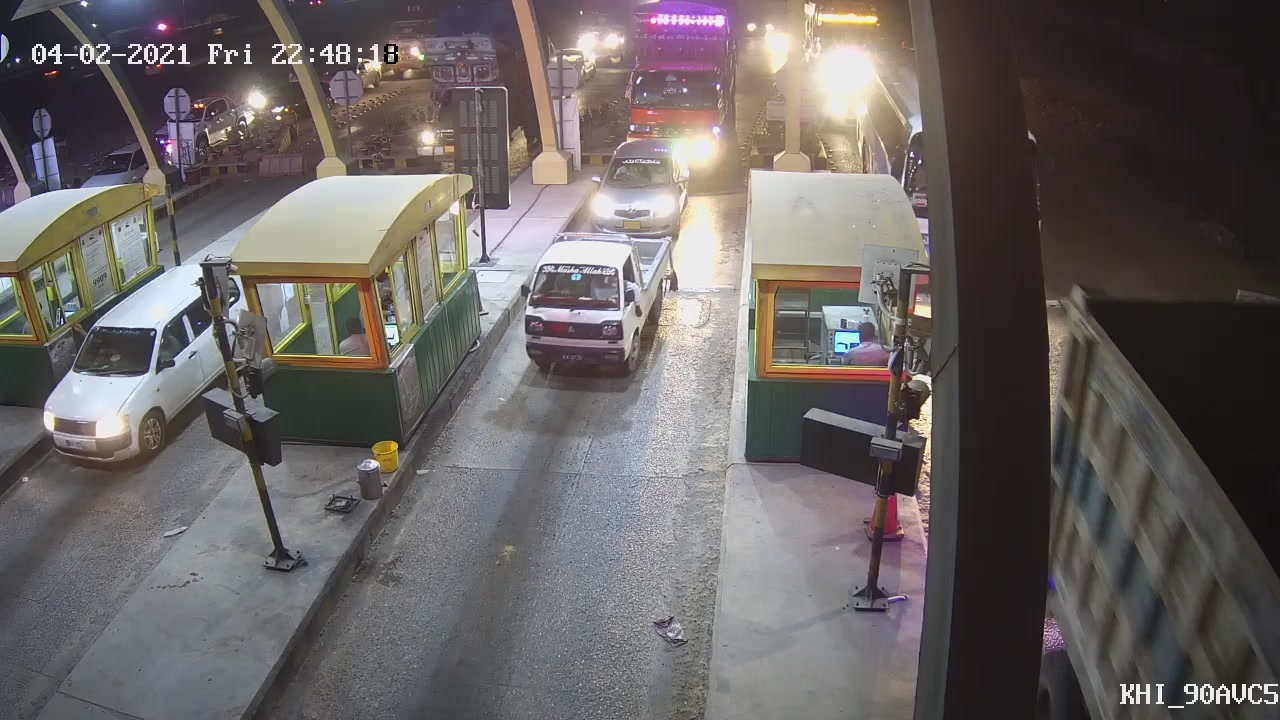F2: (512, 231, 680, 375)
